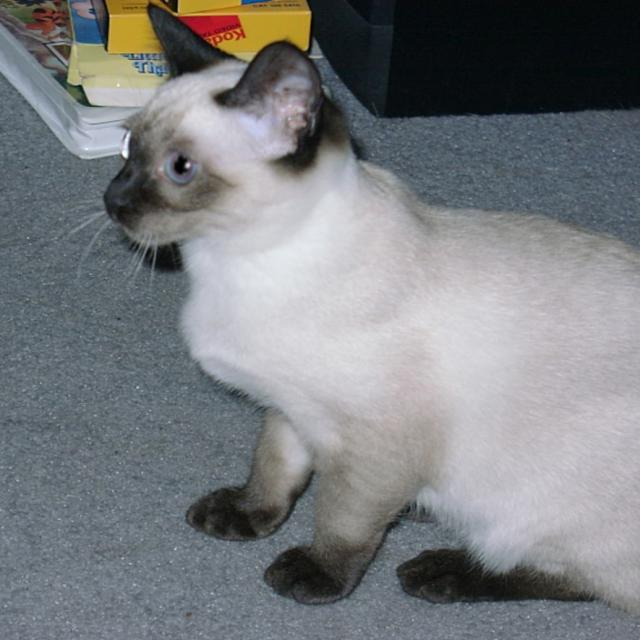Cat: (61, 0, 639, 617)
